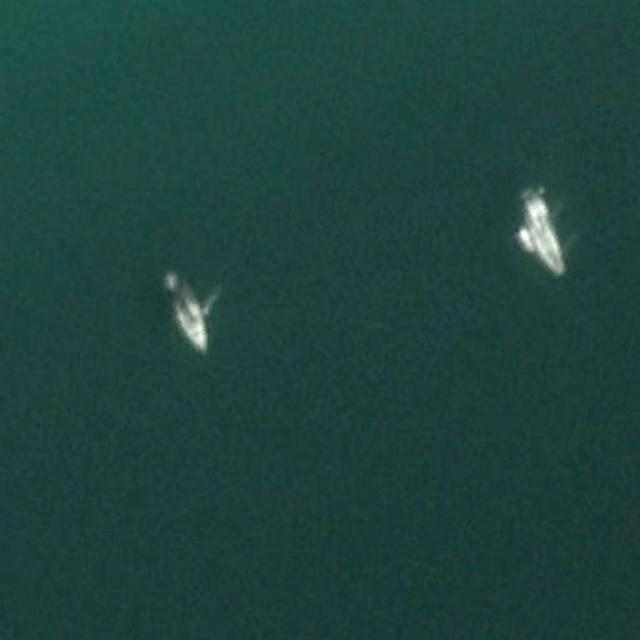ship: (514, 178, 566, 278), (158, 264, 211, 358)
